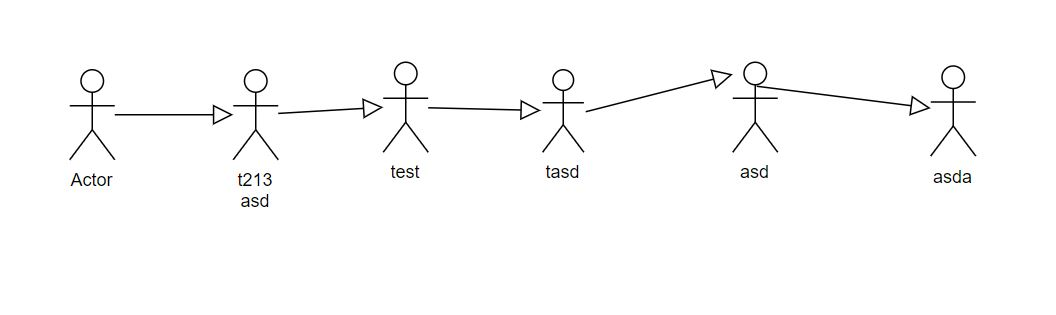actor: (380, 60, 429, 155), (232, 69, 279, 163), (733, 62, 778, 156), (69, 69, 115, 159), (931, 65, 975, 156), (543, 68, 583, 153)
generalization: (585, 68, 733, 113), (755, 83, 931, 117), (425, 94, 542, 122), (114, 103, 232, 127), (276, 97, 381, 118)
text: (228, 169, 276, 211), (69, 168, 117, 194), (926, 163, 975, 188), (542, 160, 590, 181), (389, 160, 425, 184), (736, 161, 769, 181)
